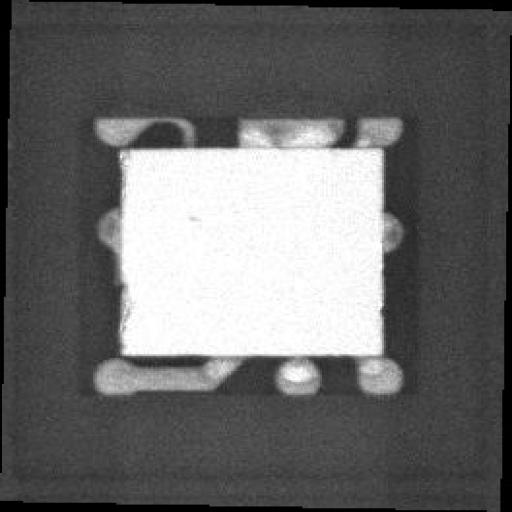DIE_BROKEN: (110, 282, 132, 328)
DIE_INK: (186, 211, 196, 219)
